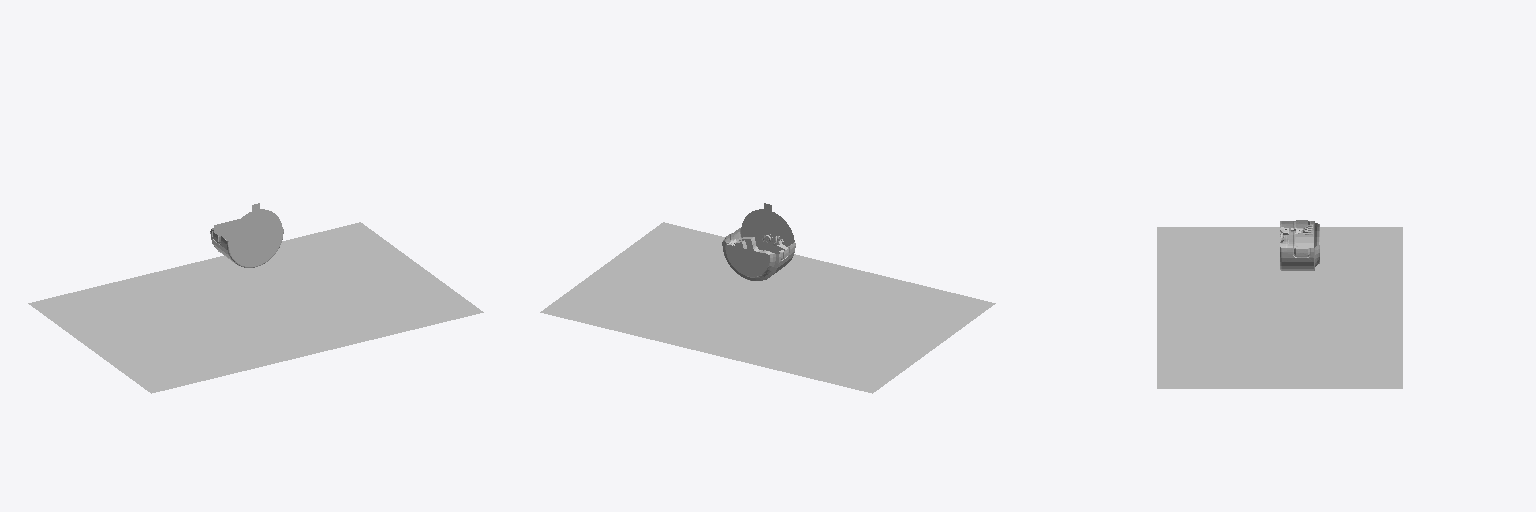
Rendered from HomeSimplified.obj.
3 renders of one model, left to right at view 1: azimuth 30°, elevation 25°; view 2: azimuth 150°, elevation 25°; view 3: azimuth 270°, elevation 25°, orthographic.
Visible parts, largest first — view 1: BackPlane__WallMT, Floor__CarpetMT00, Floor__CarpetMT01, Mold__WallMT; view 2: BackPlane__WallMT, Mold__WallMT, Floor__CarpetMT00, Floor__CarpetMT01; view 3: BackPlane__WallMT, Mold__WallMT.
Boxes of the visible parts, <box> form: BackPlane__WallMT: <box>28,222,483,393</box>; Floor__CarpetMT00: <box>237,203,274,257</box>; Floor__CarpetMT01: <box>229,210,282,266</box>; Mold__WallMT: <box>210,219,283,267</box>; BackPlane__WallMT: <box>540,222,995,393</box>; Mold__WallMT: <box>722,228,795,280</box>; Floor__CarpetMT00: <box>749,203,786,252</box>; Floor__CarpetMT01: <box>741,210,793,246</box>; BackPlane__WallMT: <box>1157,227,1402,388</box>; Mold__WallMT: <box>1280,220,1319,270</box>.
Size of the model in its own units: 111 by 33.23 by 71.54.